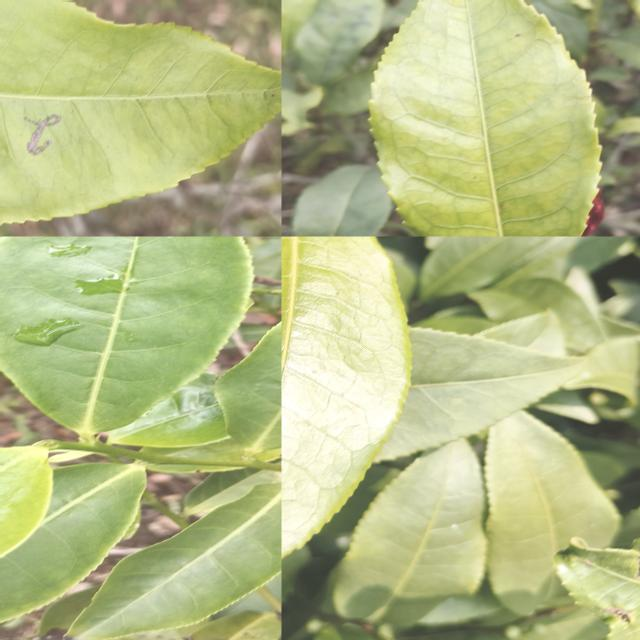Leaf: (0, 0, 281, 223), (370, 0, 600, 236), (0, 236, 251, 438), (281, 236, 409, 557), (66, 482, 281, 640), (333, 438, 486, 625), (484, 410, 619, 615), (378, 327, 581, 459), (0, 463, 145, 622), (468, 277, 605, 351), (420, 236, 578, 300), (108, 372, 227, 447), (554, 537, 640, 640), (214, 322, 281, 454), (294, 0, 384, 84), (292, 164, 391, 236), (564, 336, 640, 404), (473, 310, 565, 355), (192, 610, 281, 640), (322, 67, 374, 115), (281, 86, 322, 135), (281, 0, 317, 54), (600, 25, 640, 69), (252, 236, 281, 279), (313, 624, 373, 640)
